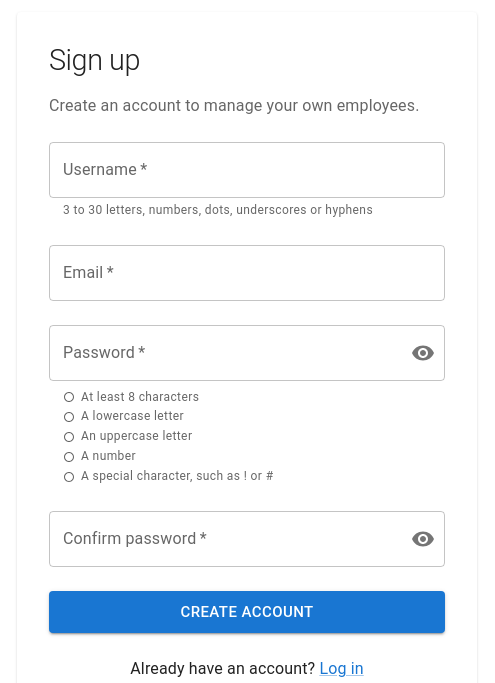
Scenario: SignupPage: client-side validation › flags a confirmation that does not match
The width and height of the screenshot is (495, 683).
Type "Str0ng!Pass" into the password field labelled "Password *" at point(222, 352), box [49,324,395,380]
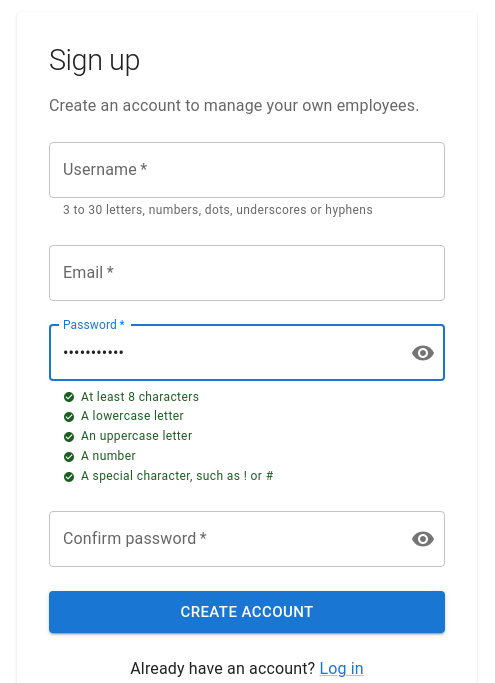
Type "Str0ng!Pas" into the password field labelled "Confirm password *" at point(222, 539), box [49,511,395,567]
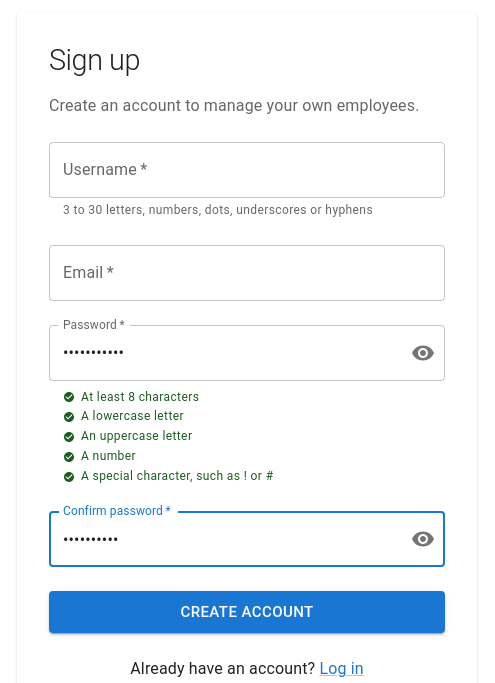
Press Tab
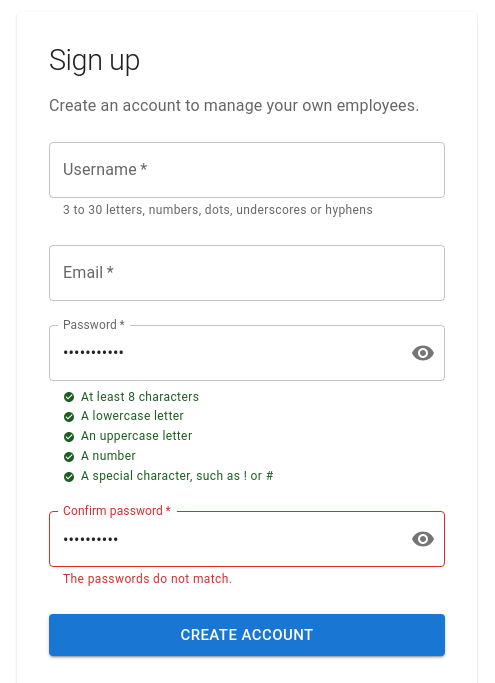
Expected: the text "The passwords do not match." is shown, [63,572,232,586]
